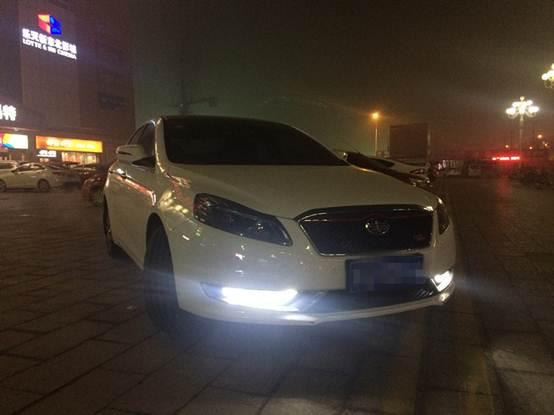car: (99, 110, 458, 341), (156, 140, 434, 242), (80, 148, 228, 212), (1, 163, 81, 193), (64, 161, 111, 187), (468, 163, 482, 178), (446, 166, 461, 176)
